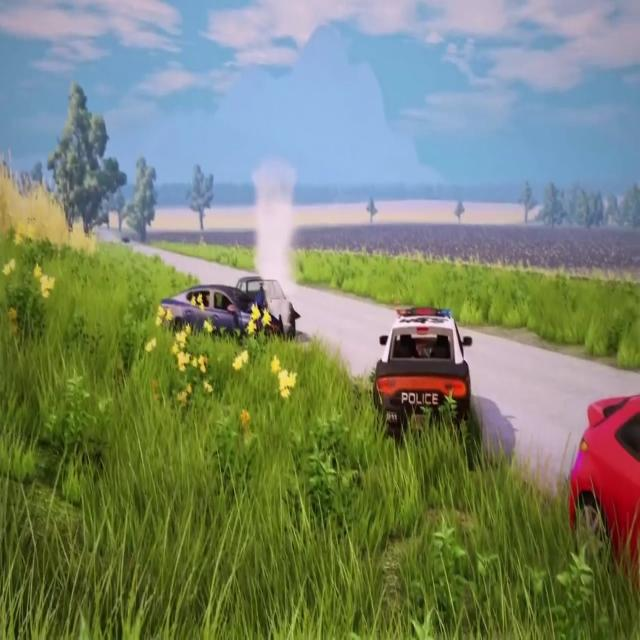accident: (150, 269, 302, 356)
